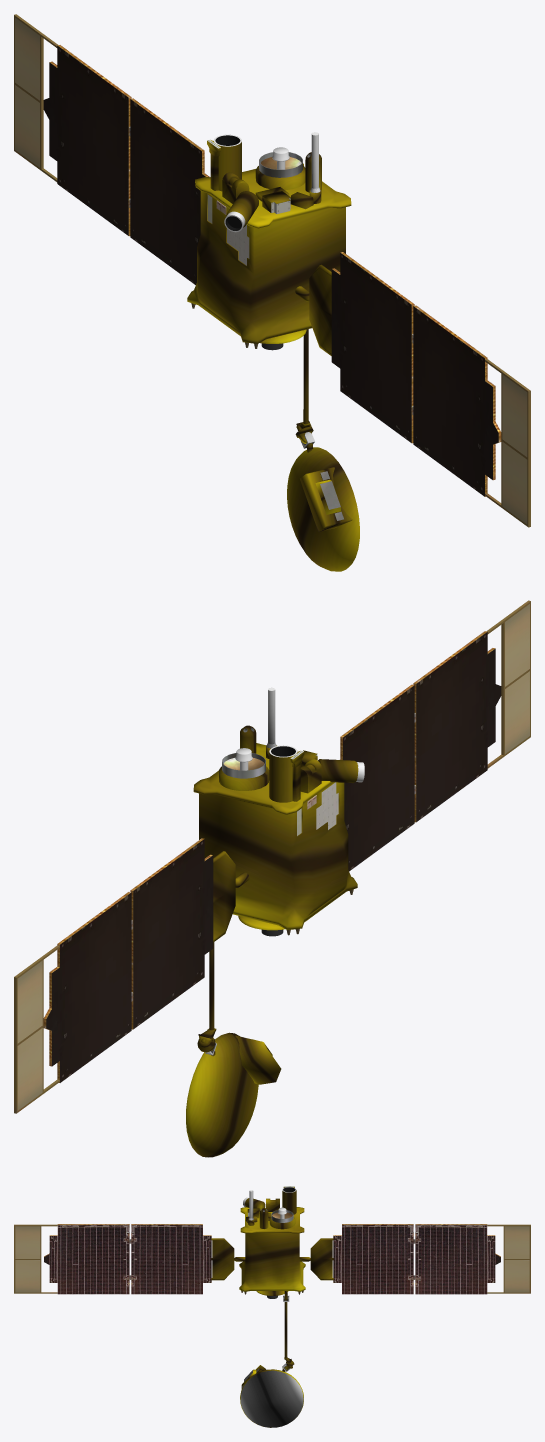
The model's file is mgs.glb.
3 renders of one model, top to bottom at view 1: azimuth 30°, elevation 25°; view 2: azimuth 150°, elevation 25°; view 3: azimuth 270°, elevation 25°, orthographic. The views are drawn at different scales.
Visible parts, largest first — view 1: shiny_panel, foil_gold, AO; view 2: shiny_panel, foil_gold, AO; view 3: shiny_panel, foil_gold, foil_silver.
Boxes of the visible parts, left/top/right/bottom form: shiny_panel: left=14, top=14, right=530, bottom=527; foil_gold: left=187, top=140, right=359, bottom=571; AO: left=213, top=132, right=320, bottom=448; shiny_panel: left=14, top=600, right=530, bottom=1113; foil_gold: left=186, top=725, right=358, bottom=1157; AO: left=205, top=687, right=364, bottom=1055; shiny_panel: left=14, top=1186, right=530, bottom=1387; foil_gold: left=211, top=1187, right=333, bottom=1427; foil_silver: left=240, top=1370, right=303, bottom=1427.
Size of the model in its own units: 1.75 by 5.15 by 10.52.
Materials: 7 (6 with a texture image).
